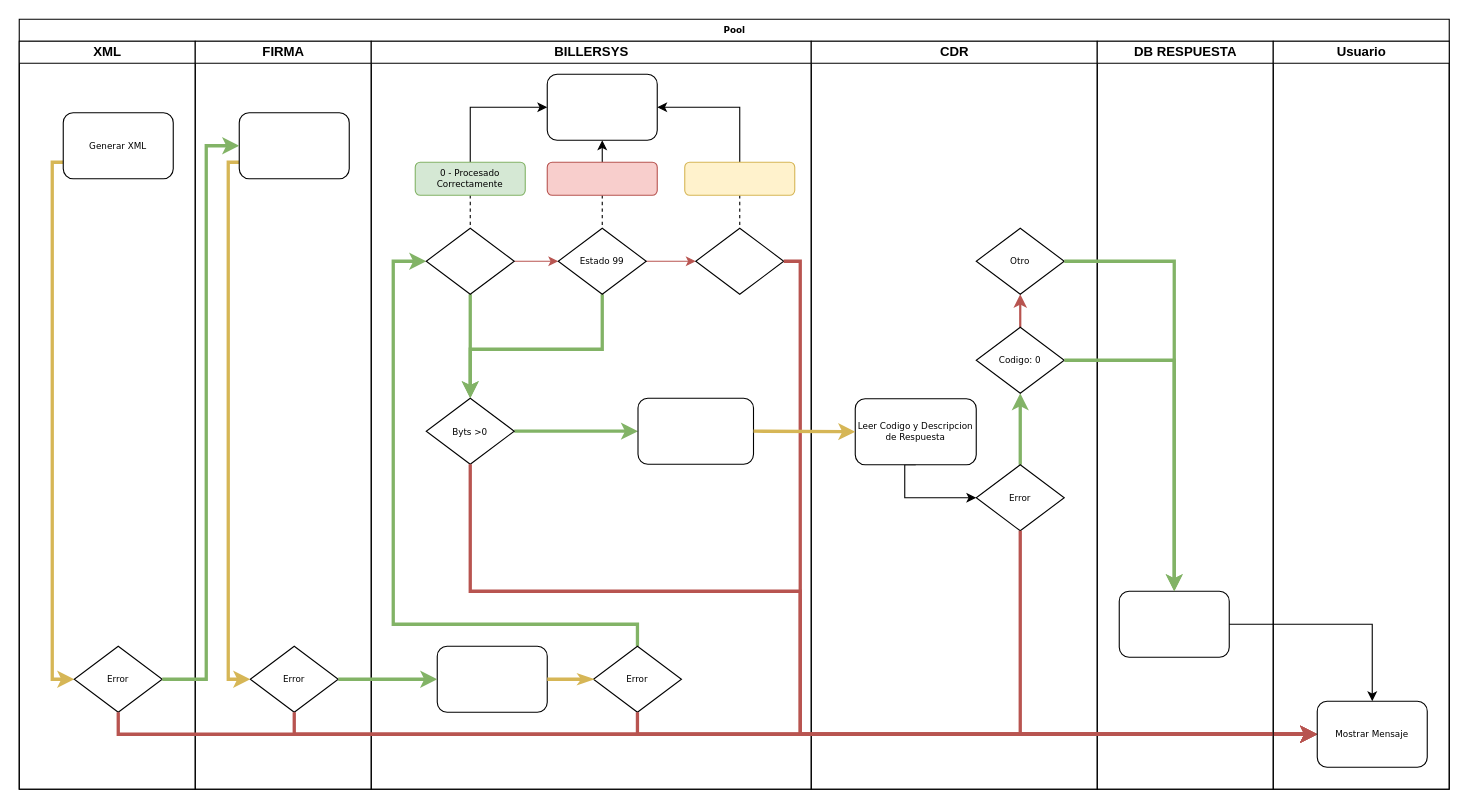
The diagram is 1469 pixels wide and 809 high, and some of its shapes have lost their labels. Each missing label, with the centre of its shape:
"-Actualizar Estado Documento -Actualizar CDR" belongs at (1173,623).
"98 -En Proceso" belongs at (739,178).
"99 - Procesado Con Error" belongs at (601,178).
"Actualziar Estado de envio a sunat [EnvioWebServiceEstado]" belongs at (601,106).
"Envio por WebService" belongs at (491,678).
"Estado 0" belongs at (469,260).
"Estado 98" belongs at (739,260).
"Extraer Zip y Devolver Nombre de archivo y xml de archivo" belongs at (695,430).
"Firmar XML" belongs at (293,145).
